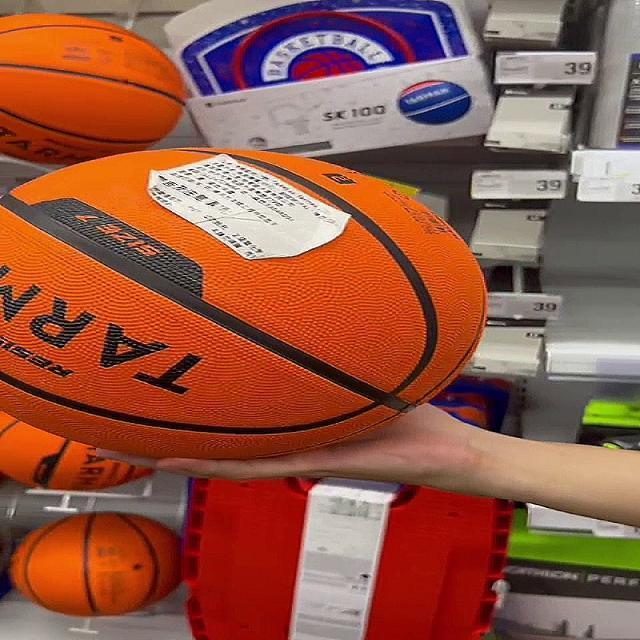ball: (0, 146, 488, 461), (0, 12, 187, 169), (7, 510, 181, 617)
